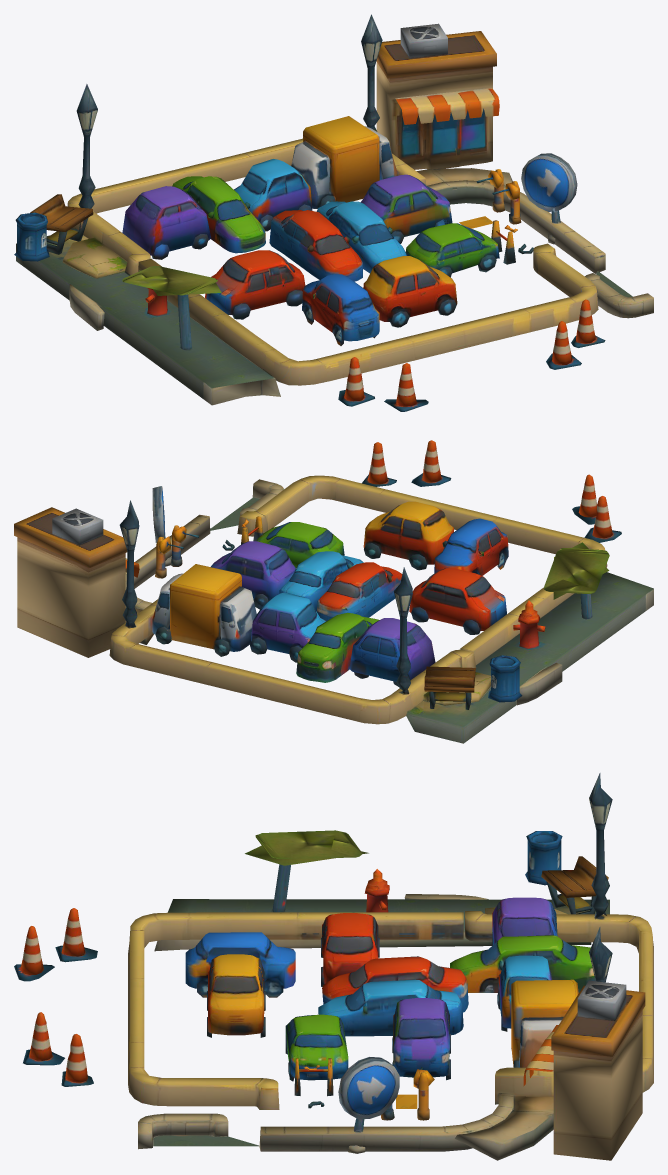
The picture shows the model from 3 angles, top to bottom: view 1: azimuth 30°, elevation 25°; view 2: azimuth 150°, elevation 25°; view 3: azimuth 270°, elevation 25°; orthographic projection. The views are drawn at different scales.
Parts seen in each view (by area): view 1: tripo_node_b6aa2e63-c294-4d0d-abe4-d227da28b346; view 2: tripo_node_b6aa2e63-c294-4d0d-abe4-d227da28b346; view 3: tripo_node_b6aa2e63-c294-4d0d-abe4-d227da28b346.
Boxes of the visible parts, x1,y1,x2,y2 form: tripo_node_b6aa2e63-c294-4d0d-abe4-d227da28b346: (14,14,653,411); tripo_node_b6aa2e63-c294-4d0d-abe4-d227da28b346: (14,440,653,743); tripo_node_b6aa2e63-c294-4d0d-abe4-d227da28b346: (14,773,653,1160).
Bounding box in the file's own units: 98.63 × 31.45 × 99.8.
Materials: 1 (1 with a texture image).
